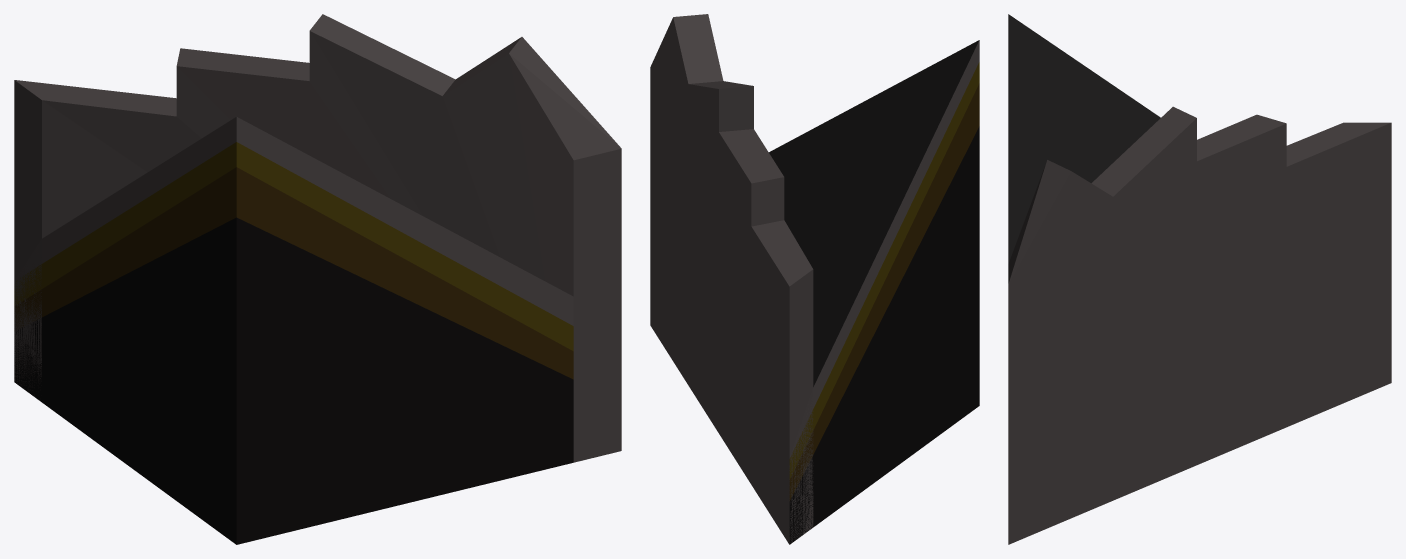
The model's file is obj_crumblywall_with_roof_diag_0.obj.
3 renders of one model, left to right at view 1: azimuth 30°, elevation 25°; view 2: azimuth 150°, elevation 25°; view 3: azimuth 270°, elevation 25°, orthographic. The views are drawn at different scales.
Bounding box in the file's own units: 1 × 1.06 × 1.
